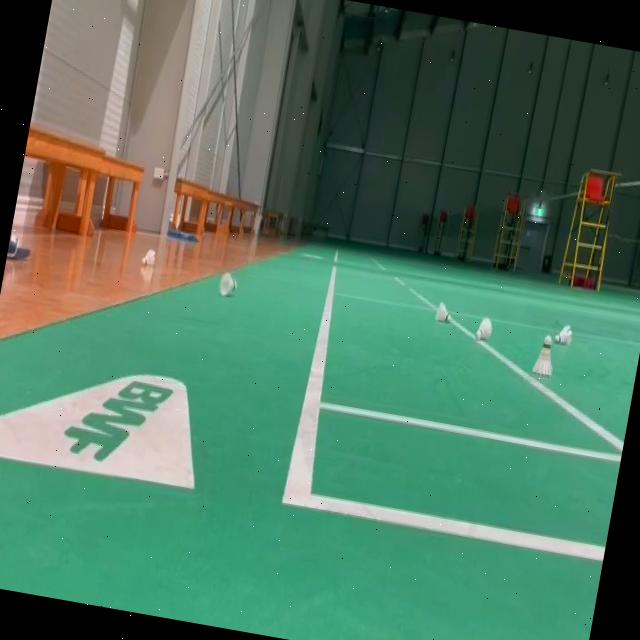Shuttle: (530, 332, 560, 378), (218, 270, 240, 299), (474, 314, 494, 342), (553, 322, 575, 346), (434, 300, 454, 324), (140, 247, 158, 268)
